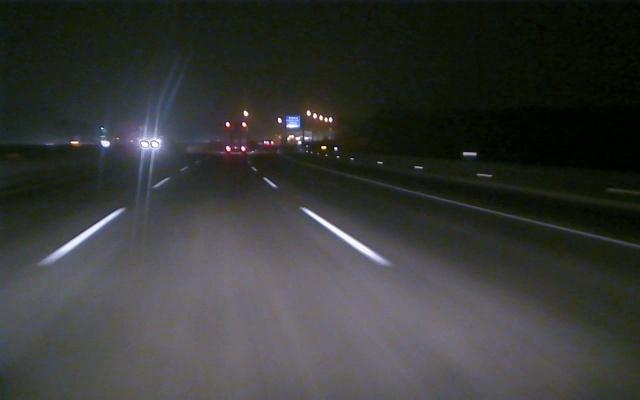lane: (346, 174, 637, 249), (262, 179, 395, 266), (37, 177, 170, 264)
